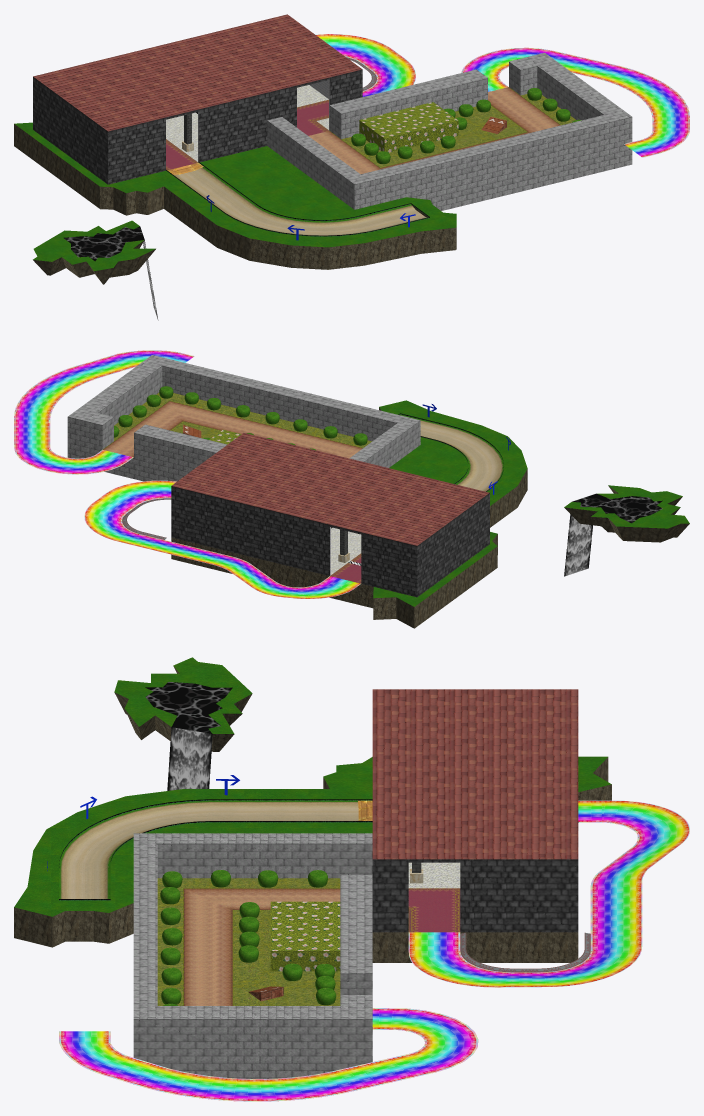
3 views of the same model, one above another, from view 1: azimuth 30°, elevation 25°; view 2: azimuth 150°, elevation 25°; view 3: azimuth 270°, elevation 25° (orthographic). The views are drawn at different scales.
Visible parts, largest first — view 1: course-SKP--gardenbrick, course-SKP--roof.002, course-SKP--islandgrass, course-SKP--extbrick, course-SKP--rock.001, course-SKP--rainbowroad, course-SKP--road.003, course-SKP--bush, course-SKP--gardenroad, course-SKP--gardengrass, course-SKP--bushkusa, course-SKP--water.002 (+3 smaller); view 2: course-SKP--roof.002, course-SKP--gardenbrick, course-SKP--extbrick, course-SKP--rainbowroad, course-SKP--islandgrass, course-SKP--rock.001, course-SKP--gardenroad, course-SKP--road.003, course-SKP--gardengrass, course-SKP--bushkusa, course-SKP--water.002, course-SKP--taki (+2 smaller); view 3: course-SKP--roof.002, course-SKP--gardenbrick, course-SKP--rainbowroad, course-SKP--islandgrass, course-SKP--extbrick, course-SKP--rock.001, course-SKP--road.003, course-SKP--gardenroad, course-SKP--gardengrass, course-SKP--bushkusa, course-SKP--bush, course-SKP--water.002 (+5 smaller).
Boxes of the visible parts, <box> form: course-SKP--gardenbrick: <box>267,52,632,210</box>; course-SKP--roof.002: <box>33,14,362,131</box>; course-SKP--islandgrass: <box>14,122,456,271</box>; course-SKP--extbrick: <box>33,69,362,184</box>; course-SKP--rock.001: <box>14,124,456,284</box>; course-SKP--rainbowroad: <box>315,34,689,157</box>; course-SKP--road.003: <box>173,167,426,235</box>; course-SKP--bush: <box>359,102,458,152</box>; course-SKP--gardenroad: <box>309,87,560,174</box>; course-SKP--gardengrass: <box>342,94,575,167</box>; course-SKP--bushkusa: <box>351,88,581,163</box>; course-SKP--water.002: <box>64,226,144,261</box>; course-SKP--roof.002: <box>171,433,489,545</box>; course-SKP--gardenbrick: <box>67,355,420,481</box>; course-SKP--extbrick: <box>171,486,489,597</box>; course-SKP--rainbowroad: <box>14,350,360,598</box>; course-SKP--islandgrass: <box>373,400,689,606</box>; course-SKP--rock.001: <box>171,407,689,628</box>; course-SKP--gardenroad: <box>103,400,362,458</box>; course-SKP--road.003: <box>400,414,503,491</box>; course-SKP--gardengrass: <box>114,393,371,447</box>; course-SKP--bushkusa: <box>114,386,367,450</box>; course-SKP--water.002: <box>572,493,662,523</box>; course-SKP--taki: <box>564,514,592,576</box>; course-SKP--roof.002: <box>372,689,578,859</box>; course-SKP--gardenbrick: <box>133,833,372,1078</box>; course-SKP--rainbowroad: <box>59,800,689,1101</box>; course-SKP--islandgrass: <box>14,657,611,916</box>; course-SKP--extbrick: <box>372,859,578,932</box>; course-SKP--rock.001: <box>14,666,611,962</box>; course-SKP--road.003: <box>59,800,358,898</box>; course-SKP--gardenroad: <box>183,888,340,1005</box>; course-SKP--gardengrass: <box>157,878,340,1005</box>; course-SKP--bushkusa: <box>160,870,336,1005</box>; course-SKP--bush: <box>270,901,340,971</box>; course-SKP--water.002: <box>145,682,232,733</box>.
Size of the model in its own units: 64752 by 12008 by 42042.
26 materials, 26 textured.
